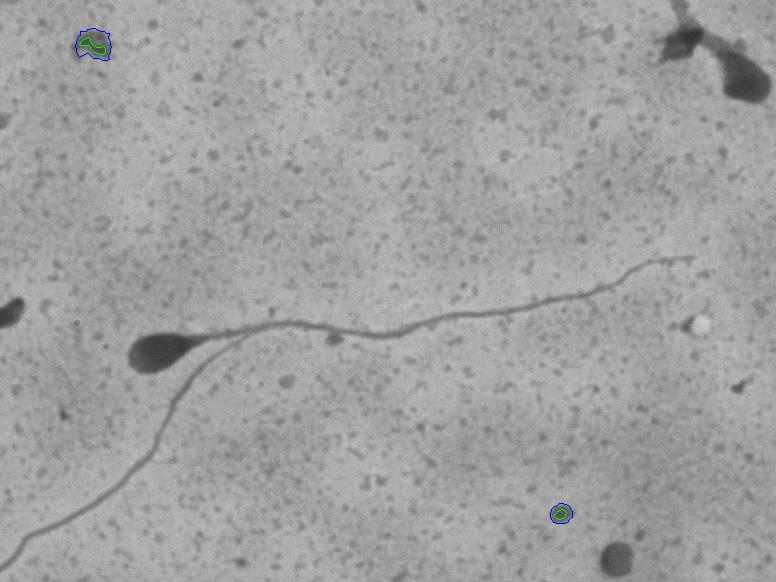Normal: (107, 217, 698, 386)
